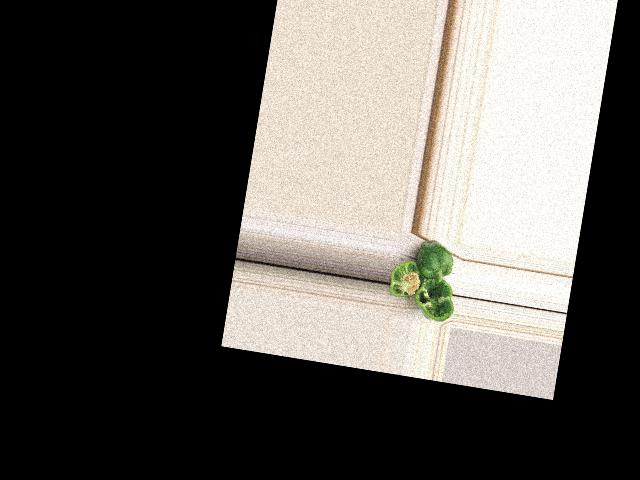bell_pepper: (386, 255, 426, 307)
